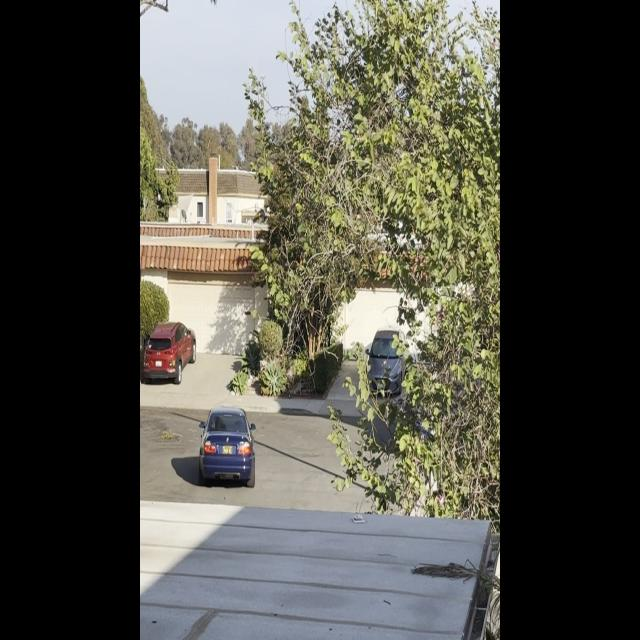Carbeetle: (194, 403, 260, 492)
Civilian: (140, 318, 199, 383), (363, 320, 409, 403)
